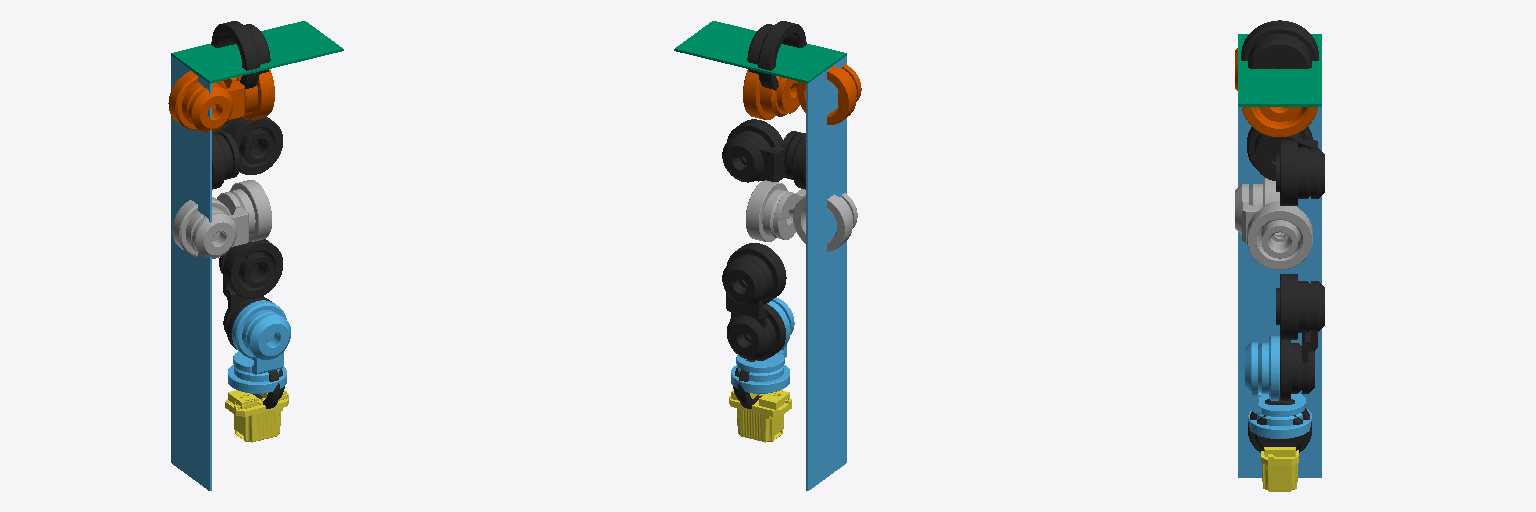
The robot description file, URDF, robot "sample_robot":
<?xml version="1.0" ?>
<!-- =================================================================================== -->
<!-- |    This document was autogenerated by xacro from simulated_my_robot.urdf.xacro  | -->
<!-- |    EDITING THIS FILE BY HAND IS NOT RECOMMENDED                                 | -->
<!-- =================================================================================== -->
<robot name="sample_robot" xmlns:xacro="http://ros.org/wiki/xacro">
  <!-- this xacro file is for parsing urdf file for simulating in gazebo -->
  <!-- defined num and set of link and joint -->
  <!-- lowest level of xacro -->
  <!-- valiables to be used -->
  <material name="black">
    <color rgba="0.2 0.2 0.2 1.0"/>
  </material>
  <!-- TODO create my_robot.gazebo: gazebo-customization elements, such as color -->
  <!-- TODO create my_robot_materials.xacro: for importing rviz colors -->
  <!-- TODO foundation is temporary added -->
  <!-- link to provide the location reference for the whole arm -->
  <link name="base_link"/>
  <joint name="base_link_foundation_1_joint" type="fixed">
    <origin xyz="0 0 0.35"/>
    <parent link="base_link"/>
    <child link="sample_robot_foundation_1_link"/>
  </joint>
  <link name="sample_robot_foundation_1_link">
    <!-- pysical values of foundations are not fixed -->
    <visual>
      <origin rpy="0 0 0" xyz="0 0 0"/>
      <geometry>
        <box size="0.004 0.120 0.7"/>
      </geometry>
    </visual>
    <collision>
      <origin rpy="0 0 0" xyz="0 0 0"/>
      <geometry>
        <box size="0.004 0.120 0.7"/>
      </geometry>
    </collision>
    <inertial>
      <mass value="1.0"/>
      <!-- This is just temporary value -->
      <origin rpy="0 0 0" xyz="0 0 0"/>
      <!-- <inertia ixx="${(0.7*0.7+0.12*0.12)/12}" ixy="0" ixz="0" iyy=" ${(0.004*0.004+0.7*0.7)/12}" iyz="0" izz="${(0.004*0.004+0.120*0.120)/12}"/> -->
      <inertia ixx="0.04203" ixy="0" ixz="0" iyy="0.04083467" iyz="0" izz="0.00120133"/>
    </inertial>
  </link>
  <joint name="foundation_1_2_joint" type="fixed">
    <origin rpy="0 0 0" xyz="0.118 0 0.352"/>
    <parent link="sample_robot_foundation_1_link"/>
    <child link="sample_robot_foundation_2_link"/>
  </joint>
  <link name="sample_robot_foundation_2_link">
    <visual>
      <origin rpy="0 0 0" xyz="0 0 0"/>
      <geometry>
        <box size="0.240 0.120 0.004"/>
      </geometry>
    </visual>
    <collision>
      <origin rpy="0 0 0" xyz="0 0 0"/>
      <geometry>
        <box size="0.240 0.120 0.004"/>
      </geometry>
    </collision>
    <inertial>
      <mass value="1.0"/>
      <!-- This is just temporary value -->
      <origin rpy="0 0 0" xyz="0 0 0"/>
      <!-- <inertia ixx="${(0.004*0.004+0.12*0.12)/12}" ixy="0" ixz="0" iyy=" ${(0.004*0.004+0.24*0.24)/12}" iyz="0" izz="${(0.24*0.24+0.120*0.12)/12}" /> -->
      <inertia ixx="0.00120133" ixy="0" ixz="0" iyy="4.80133E-3" iyz="0" izz="6.0E-3"/>
    </inertial>
  </link>
  <!-- 1. the first top link and joint -->
  <link name="sample_robot_mounting_link"/>
  <joint name="sample_robot_mounting_joint" type="fixed">
    <origin rpy="0 3.14159265359 0" xyz="0 0 0"/>
    <parent link="sample_robot_foundation_2_link"/>
    <child link="sample_robot_mounting_link"/>
  </joint>
  <joint name="bracket_0_1_joint" type="fixed">
    <origin rpy="0 0 0" xyz="0 0 0"/>
    <parent link="sample_robot_mounting_link"/>
    <child link="bracket_1_link"/>
  </joint>
  <link name="bracket_1_link">
    <visual>
      <origin rpy="0 0 0" xyz="0 0 0"/>
      <geometry>
        <mesh filename="package://my_robot_description/meshes/bracket_1.stl" scale="0.001 0.001 0.001"/>
      </geometry>
      <material name="black"/>
    </visual>
    <inertial>
      <mass value="0.609588"/>
      <!-- kg Al 7505 -->
      <origin rpy="0 0 0" xyz="0 0 0"/>
      <inertia ixx="1.140E+06" ixy="-1.278E-09" ixz="5.604E-05" iyy="1.140E+06" iyz="1.278E-10" izz="1.142E+06"/>
    </inertial>
    <collision>
      <origin rpy="0 0 0" xyz="0 0 0.0155"/>
      <geometry>
        <cylinder length="0.031" radius="0.0455"/>
      </geometry>
    </collision>
  </link>
  <!-- TODO add llimit ulimit vlimit -->
  <joint name="bracket_1_2_joint" type="continuous">
    <origin rpy="0 0 0" xyz="0 0 0.051"/>
    <axis xyz="0 0 1"/>
    <parent link="bracket_1_link"/>
    <child link="bracket_2_link"/>
  </joint>
  <link name="bracket_2_link">
    <visual>
      <origin rpy="0 0 0" xyz="0 0 0"/>
      <geometry>
        <mesh filename="package://my_robot_description/meshes/bracket_2.stl" scale="0.001 0.001 0.001"/>
      </geometry>
    </visual>
    <inertial>
      <origin rpy="0 0 0" xyz="0 0 0"/>
      <mass value="1.703374"/>
      <!-- kg Al -->
      <inertia ixx="1.131E+07" ixy="-0.004" ixz="0.008" iyy="1.074E+07" iyz="2.359E+06" izz="2.774E+06"/>
    </inertial>
    <collision>
      <origin rpy="0 0 0" xyz="0 0 0.08"/>
      <geometry>
        <cylinder length="0.160" radius="0.06025"/>
      </geometry>
    </collision>
  </link>
  <!-- FIXME add limit and ulimit vilimit -->
  <joint name="bracket_2_3_joint" type="continuous">
    <origin rpy="0 0 0" xyz="0 0 0.1125"/>
    <axis xyz="0 1 0"/>
    <parent link="bracket_2_link"/>
    <child link="bracket_3_link"/>
  </joint>
  <link name="bracket_3_link">
    <visual>
      <origin rpy="0 0 0" xyz="0 0 0"/>
      <geometry>
        <mesh filename="package://my_robot_description/meshes/bracket_3.stl" scale="0.001 0.001 0.001"/>
      </geometry>
      <material name="black"/>
    </visual>
    <inertial>
      <mass value="1.400547"/>
      <!-- kg Al -->
      <origin rpy="0 0 0" xyz="0 0 0"/>
      <inertia ixx="5.501E+06" ixy="0.004" ixz="9.410E-04" iyy="4.963E+06" iyz="-1.352E+05" izz="2.037E+06"/>
    </inertial>
    <collision>
      <origin rpy="0 0 0" xyz="0 0 0.077"/>
      <geometry>
        <cylinder length="0.154" radius="0.056"/>
      </geometry>
    </collision>
  </link>
  <!-- add color and limis -->
  <joint name="bracket_3_4_joint" type="continuous">
    <origin rpy="0 0 0" xyz="0 0 0.1065"/>
    <axis xyz="0 0 1"/>
    <parent link="bracket_3_link"/>
    <child link="bracket_4_link"/>
  </joint>
  <link name="bracket_4_link">
    <visual>
      <origin rpy="0 0 0" xyz="0 0 0"/>
      <geometry>
        <mesh filename="package://my_robot_description/meshes/bracket_4.stl" scale="0.001 0.001 0.001"/>
      </geometry>
    </visual>
    <inertial>
      <mass value="1.400547"/>
      <!-- kg Al -->
      <origin rpy="0 0 0" xyz="0 0 0"/>
      <inertia ixx="9.477E+06" ixy="-0.004" ixz="0.008" iyy="8.903E+06" iyz="2.204E+06" izz="2.074E+06"/>
    </inertial>
    <collision>
      <origin rpy="0 0 0" xyz="0 0 0.0765"/>
      <geometry>
        <cylinder length="0.153" radius="0.056"/>
      </geometry>
    </collision>
  </link>
  <joint name="bracket_4_5_joint" type="continuous">
    <origin rpy="0 0 0" xyz="0 0 0.1055"/>
    <axis xyz="0 1 0"/>
    <parent link="bracket_4_link"/>
    <child link="bracket_5_link"/>
  </joint>
  <link name="bracket_5_link">
    <visual>
      <origin rpy="0 0 0" xyz="0 0 0"/>
      <geometry>
        <mesh filename="package://my_robot_description/meshes/bracket_5.stl" scale="0.001 0.001 0.001"/>
      </geometry>
      <material name="black"/>
    </visual>
    <inertial>
      <mass value="1.466917"/>
      <!-- kg Al -->
      <origin rpy="0 0 0" xyz="0 0 0"/>
      <inertia ixx="8.003E+06" ixy="-5.689" ixz="-5.342" iyy="7.336E+06" iyz="-1.341E+06" izz="2.080E+06"/>
    </inertial>
    <collision>
      <origin rpy="0 0 0" xyz="-0.032 0 0.096"/>
      <geometry>
        <box size="0.064 0.095 0.192"/>
      </geometry>
    </collision>
  </link>
  <joint name="bracket_5_6_joint" type="continuous">
    <origin rpy="0 0 0" xyz="0 0 0.098"/>
    <axis xyz="0 1 0"/>
    <parent link="bracket_5_link"/>
    <child link="bracket_6_link"/>
  </joint>
  <link name="bracket_6_link">
    <visual>
      <origin rpy="0 0 0" xyz="0 0 0"/>
      <geometry>
        <mesh filename="package://my_robot_description/meshes/bracket_6.stl" scale="0.001 0.001 0.001"/>
      </geometry>
    </visual>
    <inertial>
      <mass value="1.033966"/>
      <!-- kg Fe TODO check this -->
      <origin rpy="0 0 0" xyz="0 0 0"/>
      <inertia ixx="4.047E+06" ixy="0.003" ixz="-8.494E-04" iyy="3.853E+06" iyz="4.974E+04" izz="1.196E+06"/>
    </inertial>
    <collision>
      <origin rpy="0 0 0" xyz="0 0 0.069"/>
      <geometry>
        <cylinder length="0.138" radius="0.04875"/>
      </geometry>
    </collision>
  </link>
  <joint name="bracket_6_7_joint" type="continuous">
    <origin rpy="0 0 0" xyz="0 0 0.0915"/>
    <axis xyz="0 0 1"/>
    <parent link="bracket_6_link"/>
    <child link="bracket_7_link"/>
  </joint>
  <link name="bracket_7_link">
    <visual>
      <origin rpy="0 0 0" xyz="0 0 0"/>
      <!-- need to rotate model -->
      <geometry>
        <mesh filename="package://my_robot_description/meshes/bracket_7.stl" scale="0.001 0.001 0.001"/>
      </geometry>
      <material name="black"/>
    </visual>
    <inertial>
      <mass value="0.29527"/>
      <!-- kg Fe TODO check this -->
      <origin rpy="0 0 0" xyz="0 0 0"/>
      <inertia ixx="2.678E+05" ixy="2.556E-10" ixz="3.456E-05" iyy="2.678E+05" iyz="0.00" izz="3.474E+05"/>
    </inertial>
    <collision>
      <origin rpy="0 0 0" xyz="0 0 0.0155"/>
      <geometry>
        <cylinder length="0.031" radius="0.0465"/>
      </geometry>
    </collision>
  </link>
  <joint name="bracket_7_end_effector_joint" type="fixed">
    <origin rpy="0 0 0" xyz="0 0 0.031"/>
    <parent link="bracket_7_link"/>
    <child link="end_effector_link"/>
  </joint>
  <link name="end_effector_link">
    <visual>
      <origin rpy="0 0 0" xyz="0 0 0"/>
      <geometry>
        <mesh filename="package://my_robot_description/meshes/mounting_hand.stl" scale="0.001 0.001 0.001"/>
      </geometry>
    </visual>
    <inertial>
      <mass value="0.26231"/>
      <!-- kg Fe TODO check this -->
      <origin rpy="0 0 0" xyz="0 0 0"/>
      <inertia ixx="2.074E+05" ixy="-653.546" ixz="1857.577" iyy="3.348E+05" iyz="809.375" izz="2.594E+05"/>
    </inertial>
    <collision>
      <origin rpy="0 0 0" xyz="0.0475 0.027 0.02975"/>
      <geometry>
        <box size="0.095 0.054 0.0595"/>
      </geometry>
    </collision>
  </link>
  <!-- Add the transmission necessary to move the simulated robot's joints -->
  <!-- TODO check the type of transmission, hardwareInterface and so on -->
  <!-- First revolute servo -->
  <transmission name="bracket_1_2_revolute">
    <type>transmission_interface/SimpleTransimission</type>
    <joint name="bracket_1_2_joint">
      <hardwareInterface>hardware_interface/PositionJointInterface</hardwareInterface>
    </joint>
    <actuator name="bracket_1_2_revolute_servo">
      <hardwareInterface>PositionJointInterface</hardwareInterface>
      <mechanicalReduction>1</mechanicalReduction>
    </actuator>
  </transmission>
  <!-- Second revolute servo -->
  <transmission name="bracket_2_3_revolute">
    <type>transmission_interface/SimpleTransmission</type>
    <joint name="bracket_2_3_joint">
      <hardwareInterface>hardware_interface/PositionJointInterface</hardwareInterface>
    </joint>
    <actuator name="bracket_2_3_revolute_servo">
      <hardwareInterface>PositionJointInterface</hardwareInterface>
      <mechanicalReduction>1</mechanicalReduction>
    </actuator>
  </transmission>
  <!-- 3. revolute servo -->
  <transmission name="bracket_3_4_revolute">
    <type>transmission_interface/SimpleTransmission</type>
    <joint name="bracket_3_4_joint">
      <hardwareInterface>hardware_interface/PositionJointInterface</hardwareInterface>
    </joint>
    <actuator name="bracket_3_4_revolute_servo">
      <hardwareInterface>PositionJointInterface</hardwareInterface>
      <mechanicalReduction>1</mechanicalReduction>
    </actuator>
  </transmission>
  <!-- 4. revolute servo -->
  <transmission name="bracket_4_5_revolute">
    <type>transmission_interface/SimpleTransmission</type>
    <joint name="bracket_4_5_joint">
      <hardwareInterface>hardware_interface/PositionJointInterface</hardwareInterface>
    </joint>
    <actuator name="bracket_4_5_revolute_servo">
      <hardwareInterface>PositionJointInterface</hardwareInterface>
      <mechanicalReduction>1</mechanicalReduction>
    </actuator>
  </transmission>
  <!-- 5. revolute servo -->
  <transmission name="bracket_5_6_revolute">
    <type>transmission_interface/SimpleTransmission</type>
    <joint name="bracket_5_6_joint">
      <hardwareInterface>hardware_interface/PositionJointInterface</hardwareInterface>
    </joint>
    <actuator name="bracket_5_6_revolute_servo">
      <hardwareInterface>PositionJointInterface</hardwareInterface>
      <mechanicalReduction>1</mechanicalReduction>
    </actuator>
  </transmission>
  <!-- 6. revolute servo -->
  <transmission name="bracket_6_7_revolute">
    <type>transmission_interface/SimpleTransmission</type>
    <joint name="bracket_6_7_joint">
      <hardwareInterface>hardware_interface/PositionJointInterface</hardwareInterface>
    </joint>
    <actuator name="bracket_6_7_revolute_servo">
      <hardwareInterface>PositionJointInterface</hardwareInterface>
      <mechanicalReduction>1</mechanicalReduction>
    </actuator>
  </transmission>
  <!-- add the gazebo_ros_control plugin -->
  <!-- this is needed for parsing the transmission tag and loads the appropriate hardware interfaces and controler manager -->
  <!-- TODO need to check this is correct way to install gazebo plugins -->
  <gazebo>
    <!-- plugin for add ros_control -->
    <plugin filename="libgazebo_ros_control.so" name="control"/>
    <!-- add ros_joint_state_publisher -->
    <plugin filename="libgazebo_ros_joint_state_publisher.so" name="joint_state_publisher">
      <jointName>
        bracket_1_2_joint,
        bracket_2_3_joint,
        bracket_3_4_joint,
        bracket_4_5_joint,
        bracket_5_6_joint,
        bracket_6_7_joint
      </jointName>
    </plugin>
  </gazebo>
</robot>

--- Render facts (derived) ---
3 views of the same robot in one strip: view 1: azimuth 30°, elevation 25°; view 2: azimuth 150°, elevation 25°; view 3: azimuth 270°, elevation 25° (orthographic).
Robot: sample_robot — 12 links, 11 joints (6 continuous, 5 fixed); root link base_link; default pose: all joints at 0.
Links seen in each view (by area): view 1: sample_robot_foundation_1_link, bracket_4_link, bracket_6_link, bracket_2_link, sample_robot_foundation_2_link, bracket_3_link, bracket_5_link, end_effector_link, bracket_1_link; view 2: sample_robot_foundation_1_link, bracket_5_link, bracket_3_link, sample_robot_foundation_2_link, bracket_4_link, bracket_2_link, bracket_6_link, end_effector_link, bracket_1_link; view 3: sample_robot_foundation_1_link, bracket_4_link, bracket_5_link, bracket_3_link, bracket_6_link, sample_robot_foundation_2_link, bracket_1_link, bracket_2_link, end_effector_link, bracket_7_link.
Link boxes in pixels (bbox=[...]): sample_robot_foundation_1_link: bbox=[171, 56, 211, 490]; bracket_4_link: bbox=[172, 180, 271, 258]; bracket_6_link: bbox=[228, 300, 290, 393]; bracket_2_link: bbox=[168, 69, 274, 131]; sample_robot_foundation_2_link: bbox=[171, 21, 343, 83]; bracket_3_link: bbox=[212, 117, 282, 189]; bracket_5_link: bbox=[219, 239, 282, 349]; end_effector_link: bbox=[225, 390, 288, 442]; bracket_1_link: bbox=[211, 21, 270, 88]; sample_robot_foundation_1_link: bbox=[806, 56, 846, 490]; bracket_5_link: bbox=[722, 243, 786, 359]; bracket_3_link: bbox=[722, 119, 805, 189]; sample_robot_foundation_2_link: bbox=[674, 21, 846, 83]; bracket_4_link: bbox=[746, 180, 857, 251]; bracket_2_link: bbox=[743, 64, 861, 124]; bracket_6_link: bbox=[731, 297, 794, 393]; end_effector_link: bbox=[729, 390, 791, 442]; bracket_1_link: bbox=[747, 21, 806, 90]; sample_robot_foundation_1_link: bbox=[1238, 107, 1321, 477]; bracket_4_link: bbox=[1235, 178, 1312, 269]; bracket_5_link: bbox=[1276, 274, 1324, 400]; bracket_3_link: bbox=[1247, 127, 1324, 205]; bracket_6_link: bbox=[1245, 336, 1311, 438]; sample_robot_foundation_2_link: bbox=[1238, 34, 1321, 106]; bracket_1_link: bbox=[1241, 20, 1318, 68]; bracket_2_link: bbox=[1235, 48, 1317, 136]; end_effector_link: bbox=[1261, 447, 1298, 491]; bracket_7_link: bbox=[1248, 399, 1311, 452].
Size in the robot's own frame: 0.28 by 0.129 by 0.758 metres.
8 mesh visuals loaded from 8 distinct referenced files (7 binary STL, 1 ASCII STL).